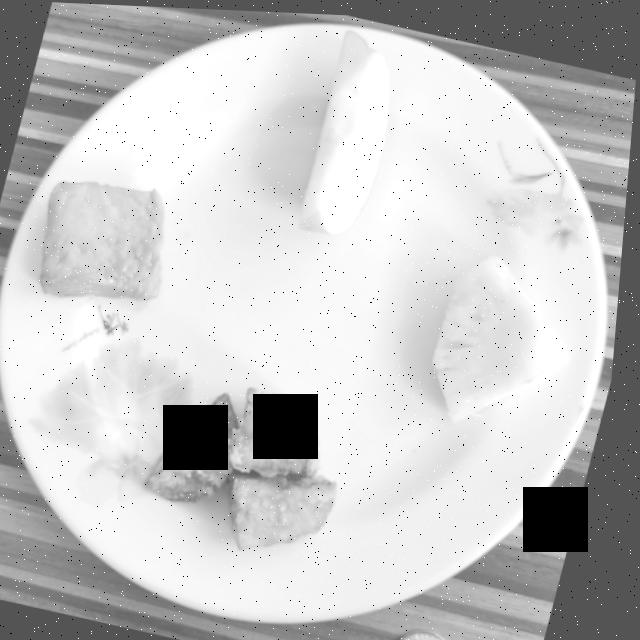apple -sliced-: (303, 27, 391, 231)
coin: (406, 626, 460, 640)
creamy tofu: (44, 180, 168, 298)
fried potato: (152, 384, 344, 546)
pineapple: (437, 251, 573, 417)
